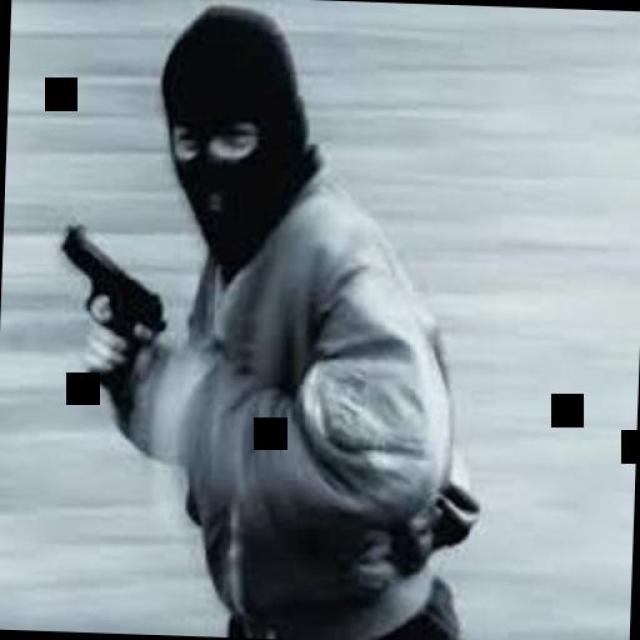gun: (52, 215, 166, 399)
